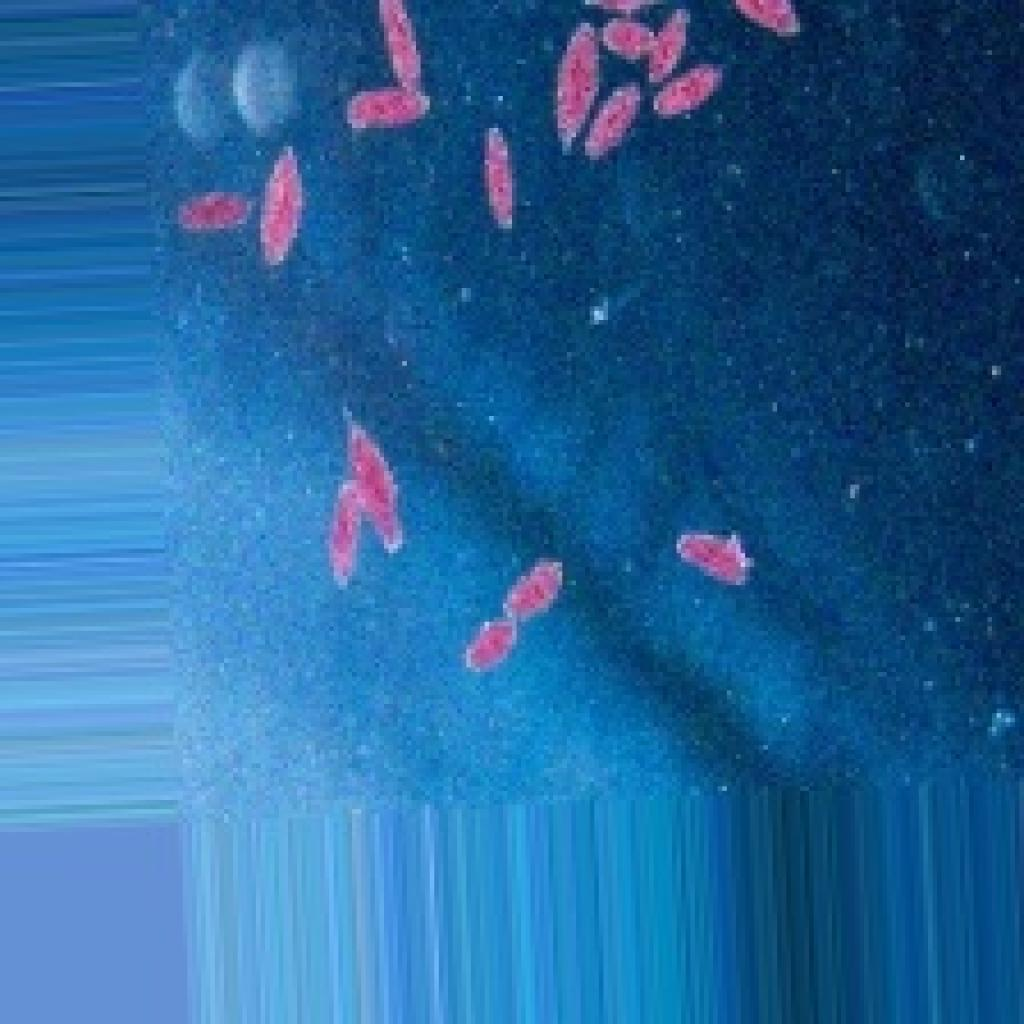Amoeba: (164, 6, 917, 771)
